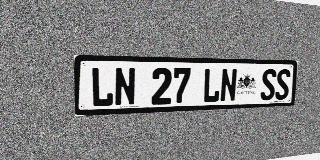2: (152, 68, 172, 105)
7: (171, 68, 191, 104)
L: (91, 67, 113, 107), (202, 68, 221, 103)
N: (114, 67, 136, 106), (220, 68, 238, 102)
S: (260, 69, 277, 101), (275, 69, 291, 100)
